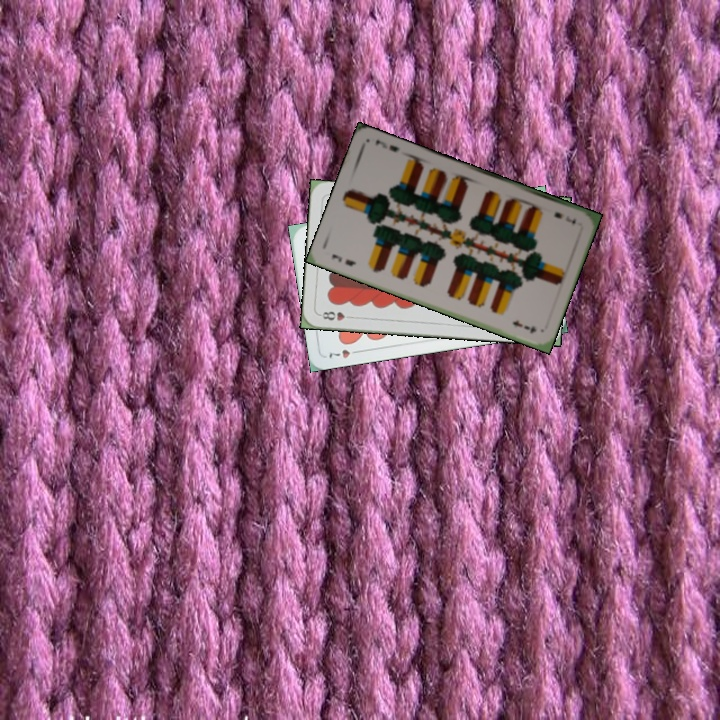E7: (328, 250, 359, 269), (550, 208, 579, 227)
H7: (325, 345, 364, 361)
H8: (316, 307, 357, 323)
